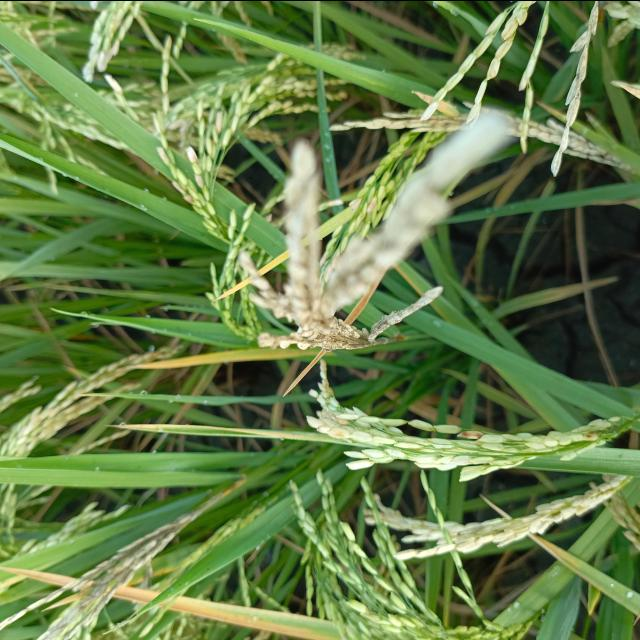Brown spot: (182, 599, 298, 632), (277, 355, 320, 399), (138, 351, 214, 374), (3, 566, 72, 584), (116, 585, 148, 607), (344, 298, 378, 318)
